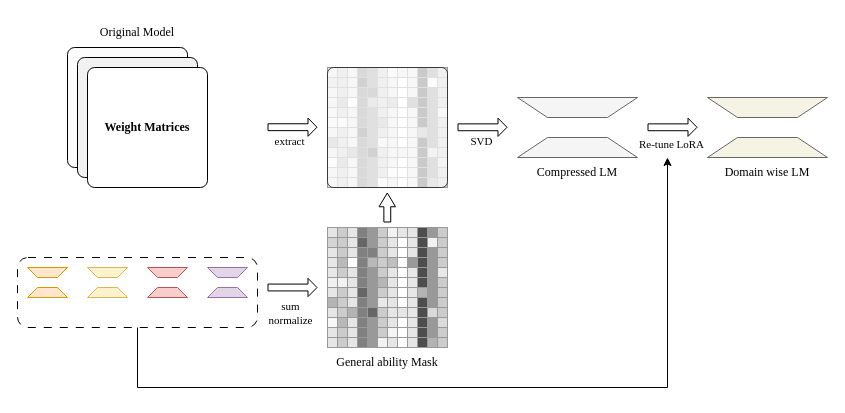
Image size: 845x413. Some labels were removed from this diagram. The shapes that lost their labels are listed below. From the top down, each one's box as (x1, y1, x2, y2) in pixels, then its label:
(326, 66, 448, 188): Masked Matrix
(16, 256, 258, 328): LoRA for domains
